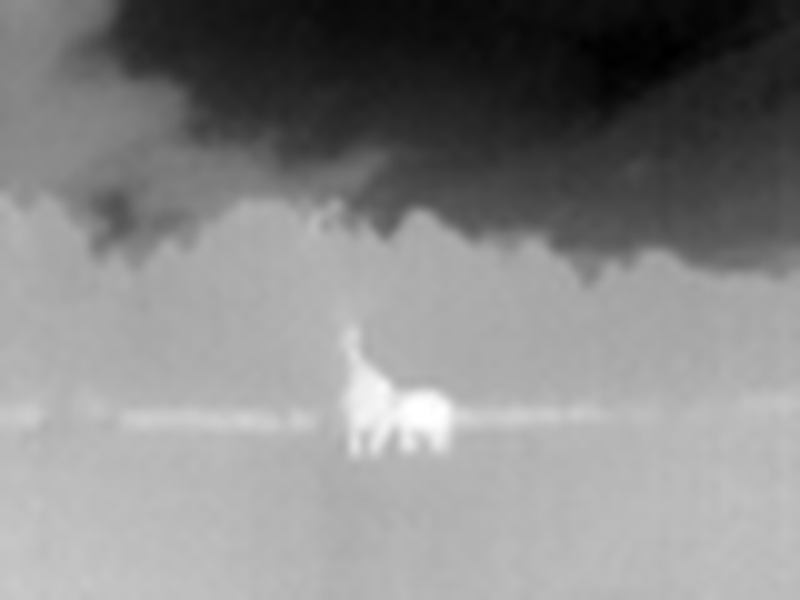elephant: (327, 334, 444, 449)
